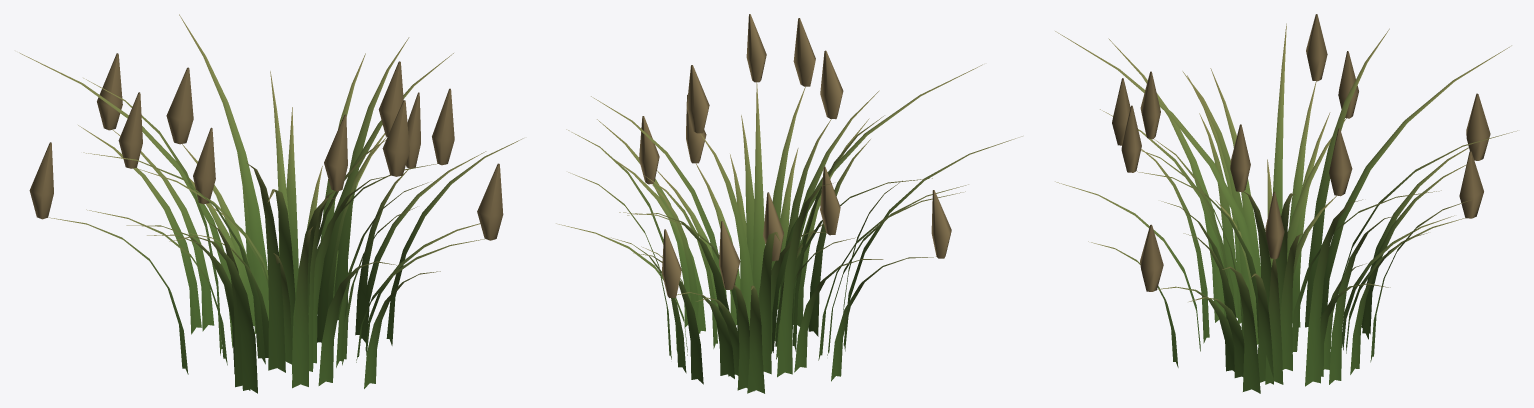
File: Bronze Seed Sedge.glb
3 renders of one model, left to right at view 1: azimuth 30°, elevation 25°; view 2: azimuth 150°, elevation 25°; view 3: azimuth 270°, elevation 25°, orthographic. The views are drawn at different scales.
Parts seen in each view (by area): view 1: Bronze Seed Sedge; view 2: Bronze Seed Sedge; view 3: Bronze Seed Sedge.
Part boxes in pixels (x1,y1,x2,y2): Bronze Seed Sedge: [19, 14, 523, 393]; Bronze Seed Sedge: [556, 14, 1022, 393]; Bronze Seed Sedge: [1055, 14, 1517, 393].
Bounding box in the file's own units: 1.42 × 0.931 × 1.36.
